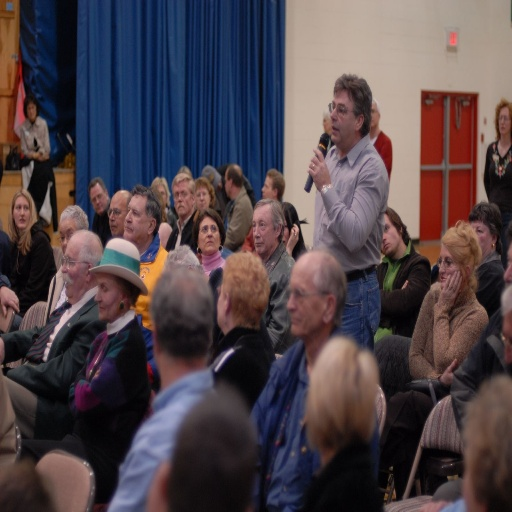hand: (302, 132, 334, 197), (438, 270, 464, 310), (0, 284, 22, 318), (440, 356, 457, 388), (286, 222, 300, 253), (418, 499, 449, 511), (40, 152, 49, 162), (26, 152, 35, 158)
